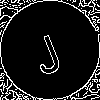J: (25, 25, 66, 77)
